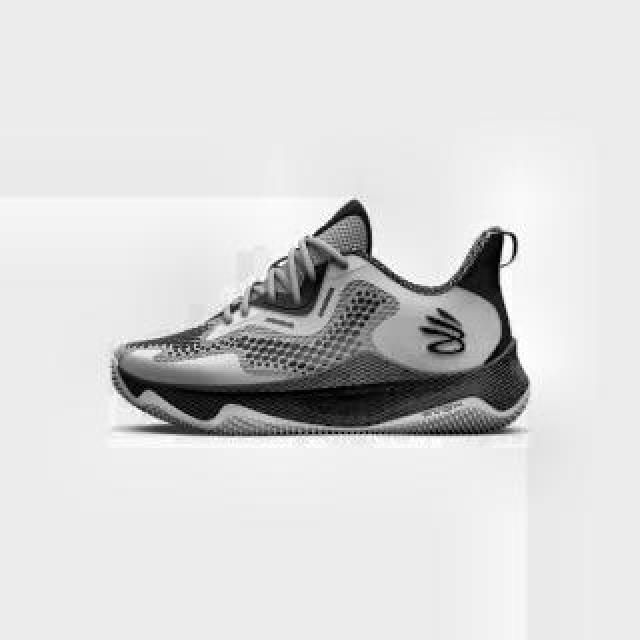shoe: (108, 197, 528, 435)
